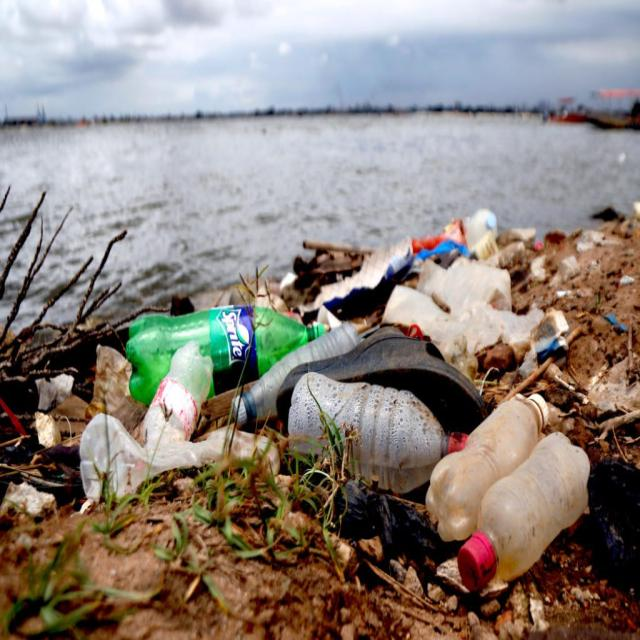Plastics: (102, 199, 596, 576)
